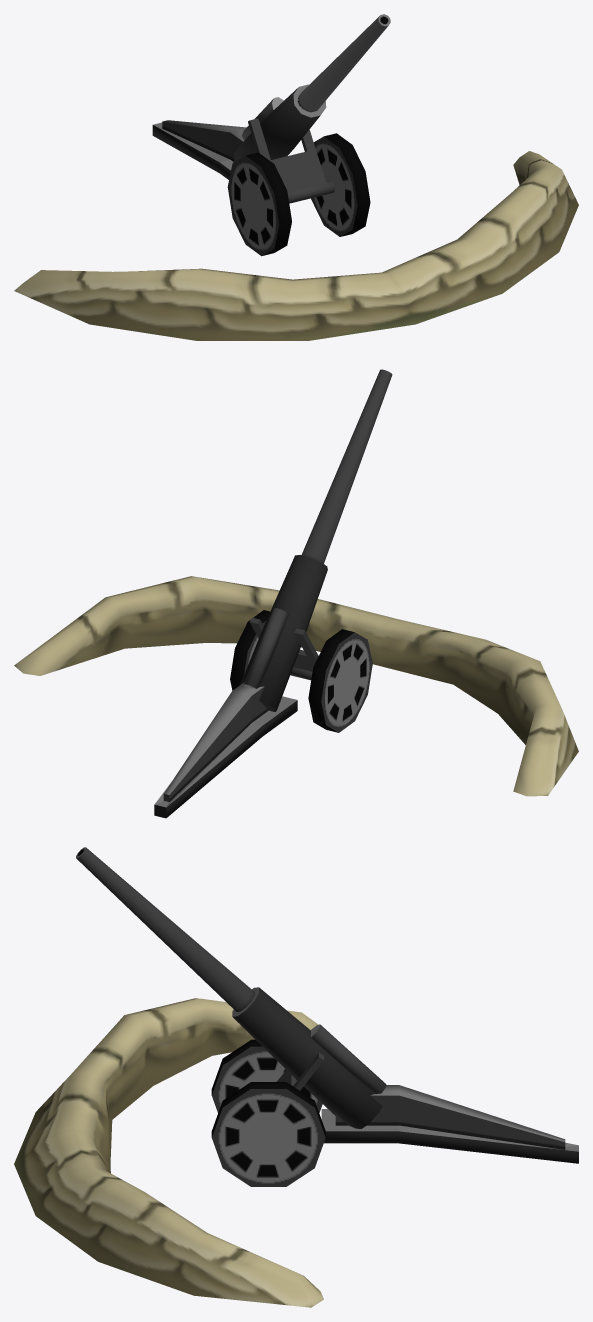
Rendered from Artillery.DAE.
3 views of the same model, one above another, from view 1: azimuth 30°, elevation 25°; view 2: azimuth 150°, elevation 25°; view 3: azimuth 270°, elevation 25° (orthographic). The views are drawn at different scales.
Visible parts, largest first — view 1: Artillery; view 2: Artillery; view 3: Artillery.
Boxes of the visible parts, <box> form: Artillery: <box>14,14,578,340</box>; Artillery: <box>14,369,578,818</box>; Artillery: <box>14,847,578,1307</box>.
Bounding box in the file's own units: 2486 × 1273 × 2067.
1 material, 1 textured.
